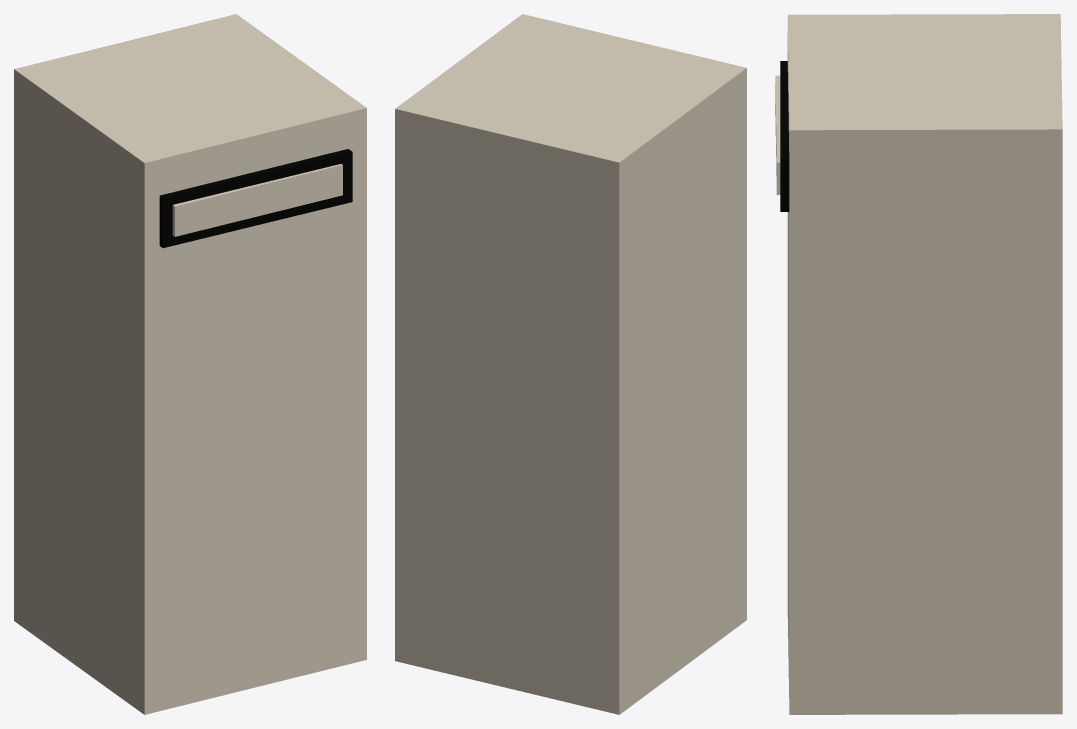
Rendered from oldPC.glb.
3 views of the same model, side by side, from view 1: azimuth 30°, elevation 25°; view 2: azimuth 150°, elevation 25°; view 3: azimuth 270°, elevation 25° (orthographic). The views are drawn at different scales.
Parts seen in each view (by area): view 1: Computer, Cube; view 2: Computer; view 3: Computer, Cube.
Boxes of the visible parts, box(x1,y1,x2,y2) form: Computer: box(14, 14, 366, 714); Cube: box(159, 149, 352, 248); Computer: box(395, 14, 746, 714); Computer: box(775, 14, 1062, 714); Cube: box(780, 61, 789, 211).
Bounding box in the file's own units: 0.6571 × 1.54 × 0.6862.
